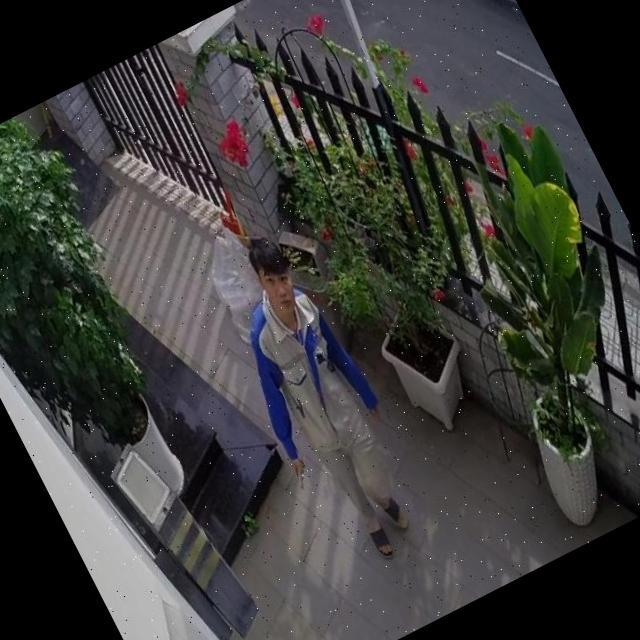person: (189, 219, 446, 582)
